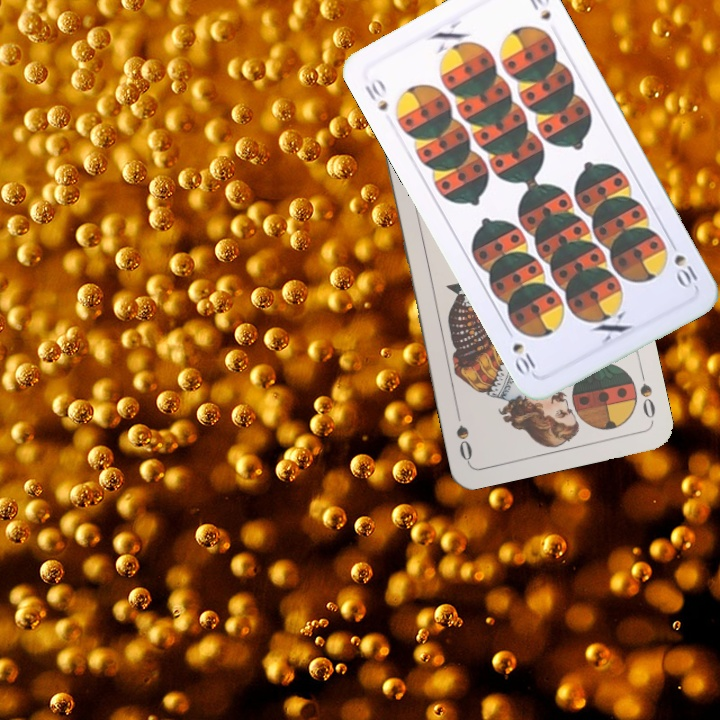S10: (360, 74, 391, 114), (670, 250, 700, 291)
SO: (635, 365, 658, 424)
